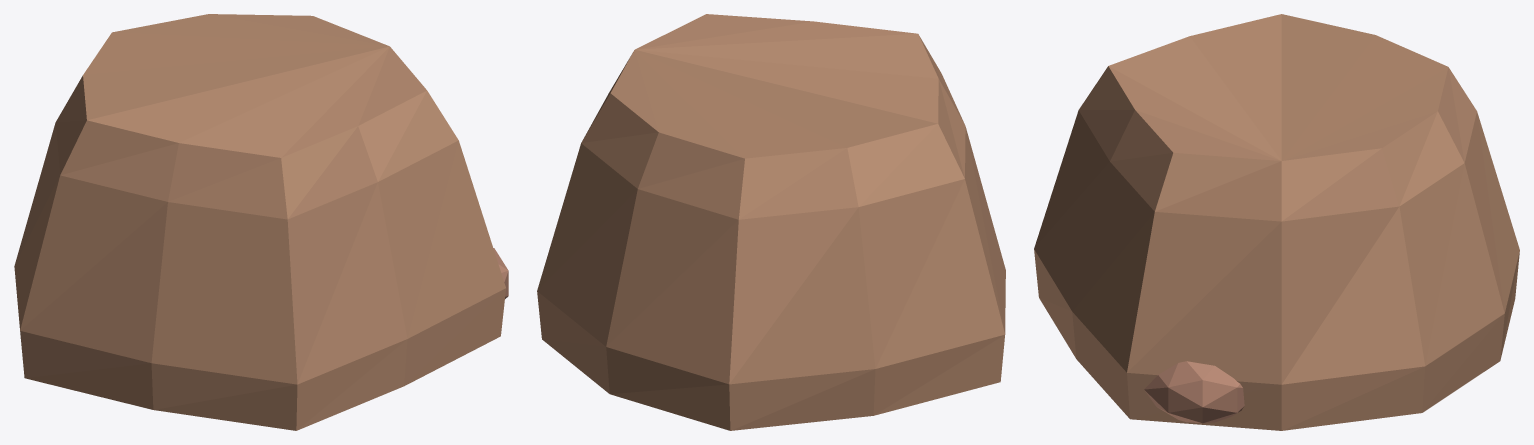
The model's file is mesa_wide.glb.
3 views of the same model, side by side, from view 1: azimuth 30°, elevation 25°; view 2: azimuth 150°, elevation 25°; view 3: azimuth 270°, elevation 25° (orthographic).
Visible parts, largest first — view 1: short_mesa; view 2: short_mesa; view 3: short_mesa, base.
Part boxes in pixels (x1,y1,x2,y2): short_mesa: (14,14,505,430); short_mesa: (537,14,1005,430); short_mesa: (1034,14,1519,430); base: (1144,361,1244,423).
Bounding box in the file's own units: 2.6 × 1.4 × 2.46.
